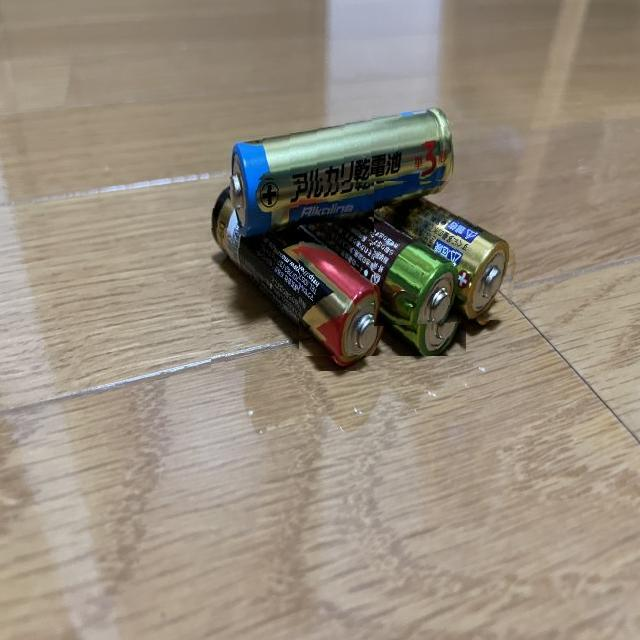battery: (211, 179, 393, 371), (223, 102, 453, 240), (299, 196, 469, 356), (374, 181, 522, 327)
